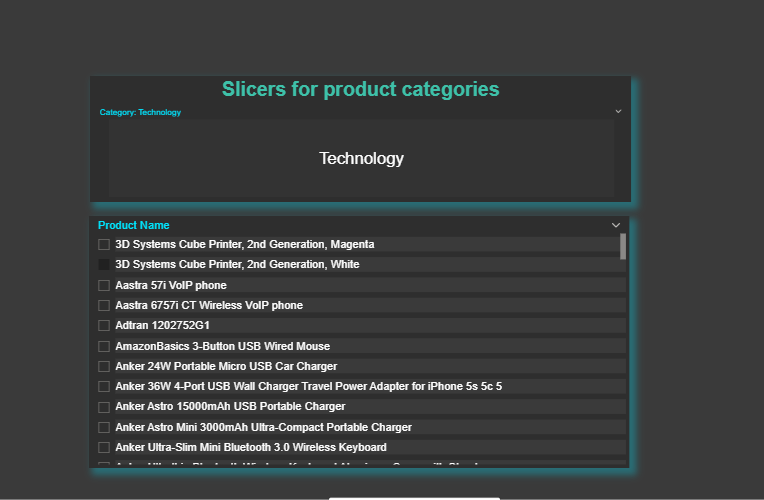

The page's visual inventory and layout, read from the dashboard file:
{"tool":"powerbi","page":{"name":"Slicers for product categories","canvas":[1280,720],"ordinal":1},"visuals":[{"type":"slicer","title":"Slicers for product categories","fields":{"Values":["Sheet3.Category"]},"box":[185,115,772.5,180],"z":0},{"type":"slicer","fields":{"Values":["Sheet3.Product Name"]},"box":[184,316,772,360],"z":1000}]}

Visuals, with their boxes on the page's 1280x720 design canvas (x1, y1, x2, y2). These are canvas units, not pixel positions in the 764x500 screenshot, which may show the page scaled, cropped or inside an application window:
"Slicers for product categories" slicer: {"x1": 185, "y1": 115, "x2": 958, "y2": 295}
slicer - Sheet3.Product Name: {"x1": 184, "y1": 316, "x2": 956, "y2": 676}
